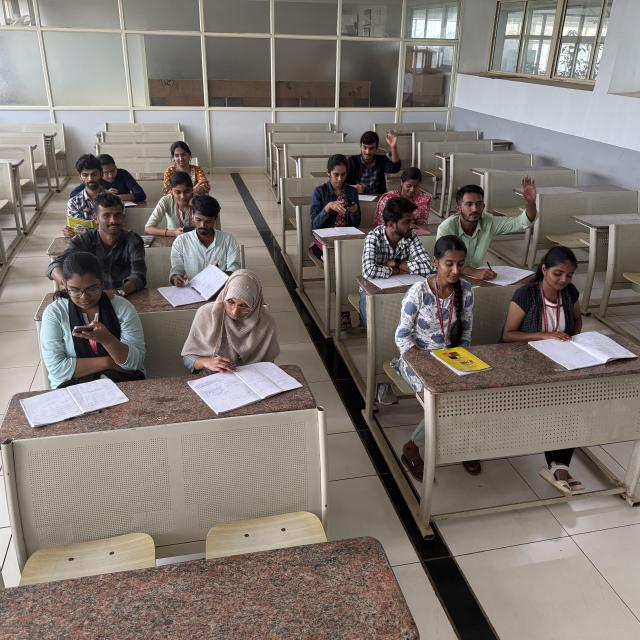Hand Rising: (454, 172, 548, 242), (334, 125, 402, 183)
Reading: (524, 244, 612, 358), (62, 154, 116, 238)
Using Phone: (43, 252, 136, 368), (145, 170, 205, 239), (306, 150, 362, 222), (384, 170, 432, 228)
Writing: (199, 279, 291, 390)
